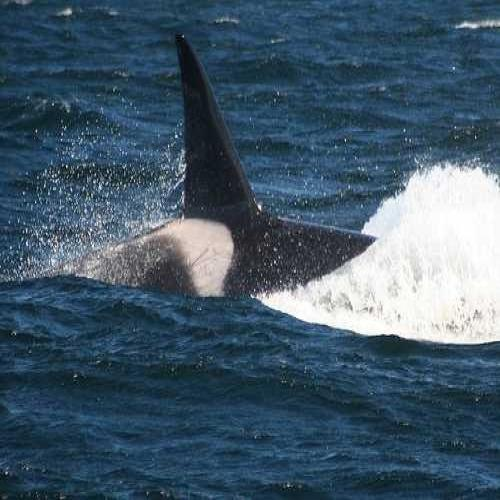killer_whale-endangered: (75, 23, 429, 341)
